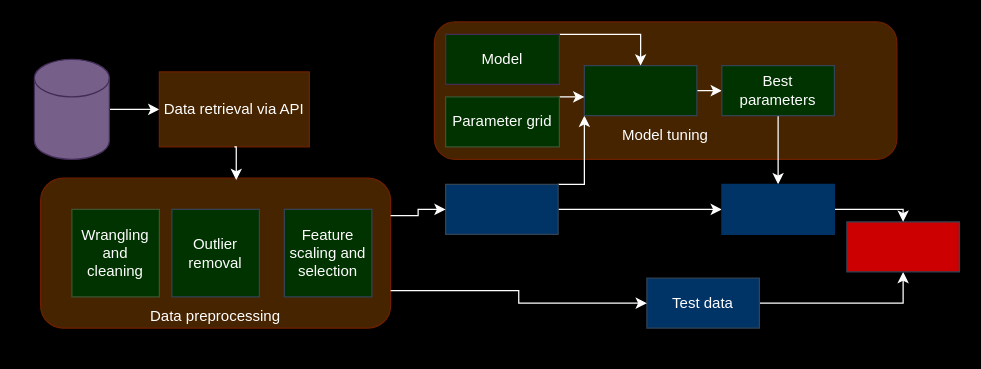
The diagram is 981 pixels wide and 369 high, and some of its shapes have lost their labels. Here are the shapes that lost their labels. From the top down, the centre of each, then its label:
At [71,108]: "Refinitiv LSEG".
At [640,90]: "K-fold cross validation".
At [501,208]: "Training data".
At [777,208]: "Retrained model".
At [902,246]: "Final evaluation".
